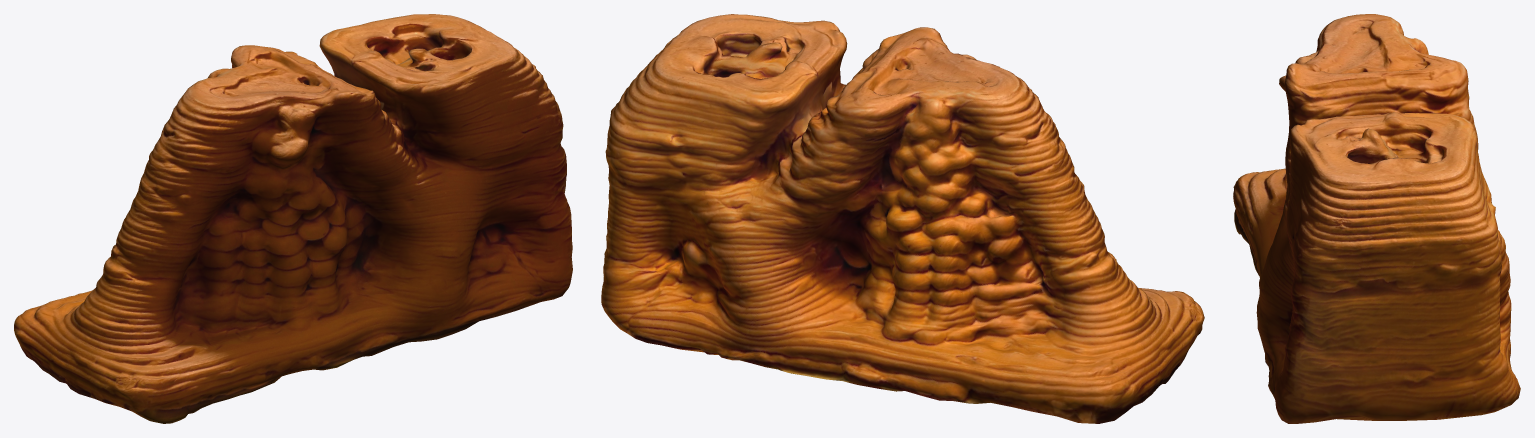
The model's file is feet of clay.glb.
3 renders of one model, left to right at view 1: azimuth 30°, elevation 25°; view 2: azimuth 150°, elevation 25°; view 3: azimuth 270°, elevation 25°, orthographic. The views are drawn at different scales.
Visible parts, largest first — view 1: 9d9a98b4-4eb5-4609-b01d-9005f4e946b2; view 2: 9d9a98b4-4eb5-4609-b01d-9005f4e946b2; view 3: 9d9a98b4-4eb5-4609-b01d-9005f4e946b2.
Boxes of the visible parts, <box> form: 9d9a98b4-4eb5-4609-b01d-9005f4e946b2: <box>14,14,572,423</box>; 9d9a98b4-4eb5-4609-b01d-9005f4e946b2: <box>601,14,1204,423</box>; 9d9a98b4-4eb5-4609-b01d-9005f4e946b2: <box>1233,14,1520,423</box>.
Bounding box in the file's own units: 0.6043 × 0.3116 × 0.304.
Materials: 1 (1 with a texture image).
